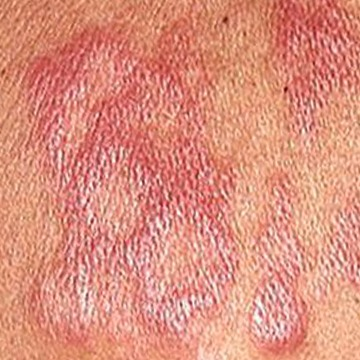Leprosy: (23, 18, 244, 341), (246, 165, 359, 359), (252, 0, 359, 151)
